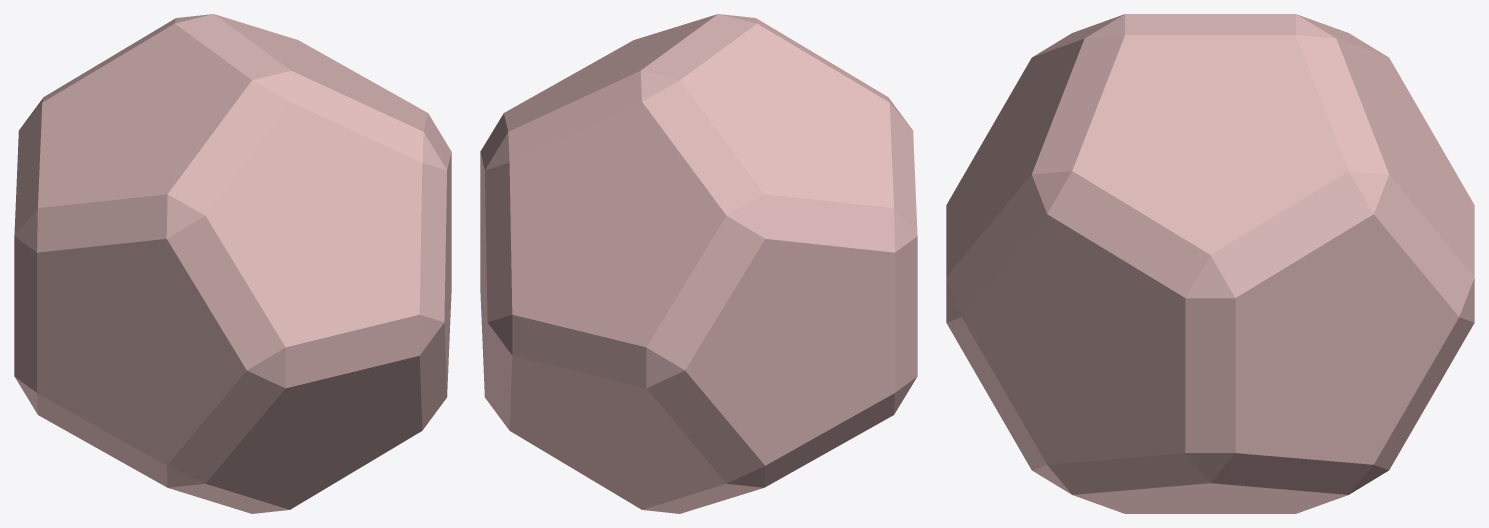
The model's file is geostar.fbx.
3 views of the same model, side by side, from view 1: azimuth 30°, elevation 25°; view 2: azimuth 150°, elevation 25°; view 3: azimuth 270°, elevation 25° (orthographic). The views are drawn at different scales.
Visible parts, largest first — view 1: GeoStar; view 2: GeoStar; view 3: GeoStar.
Part boxes in pixels (left/top/right/bottom): GeoStar: left=14, top=14, right=451, bottom=513; GeoStar: left=480, top=14, right=917, bottom=513; GeoStar: left=946, top=14, right=1474, bottom=513.
Bounding box in the file's own units: 1.77 × 1.77 × 1.77.
